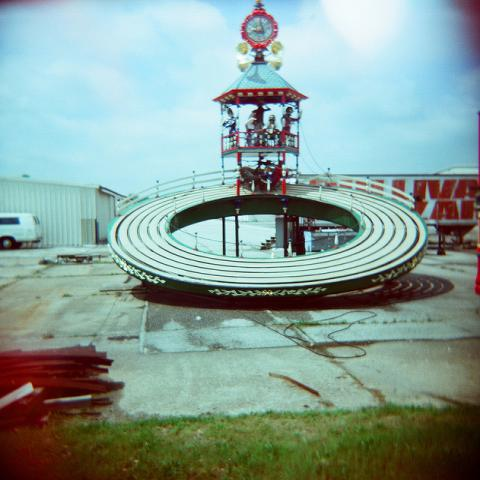truck: (1, 212, 42, 250)
